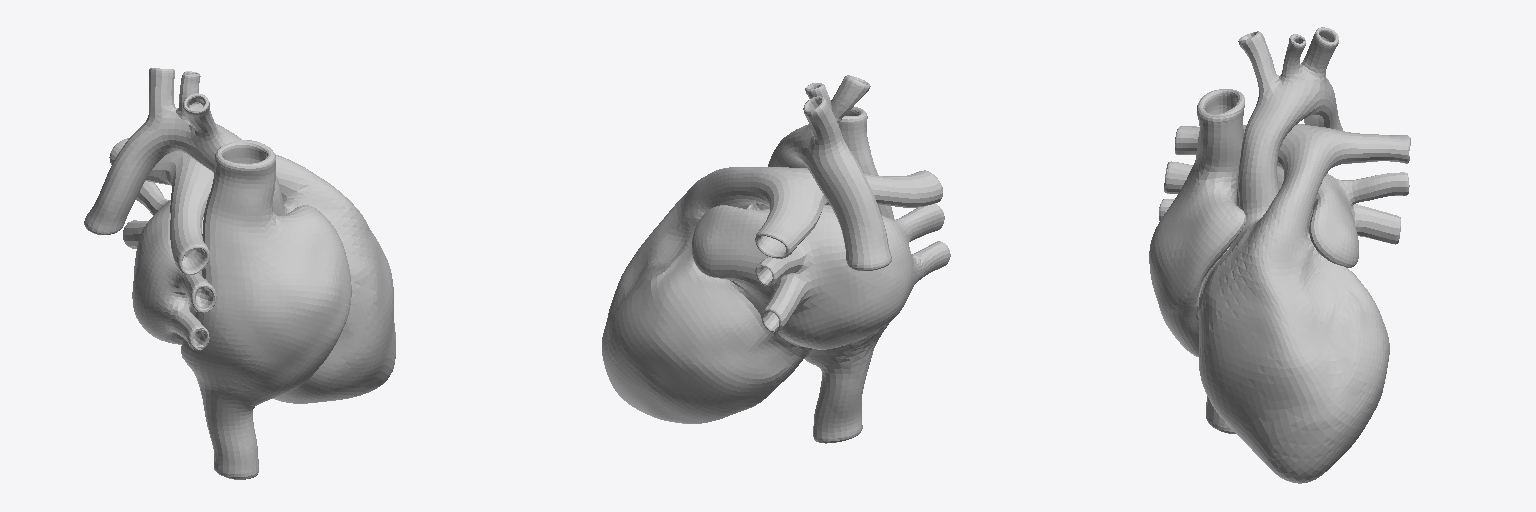
The picture shows the model from 3 angles: view 1: azimuth 30°, elevation 25°; view 2: azimuth 150°, elevation 25°; view 3: azimuth 270°, elevation 25°; orthographic projection.
Parts seen in each view (by area): view 1: HEART_PRO; view 2: HEART_PRO; view 3: HEART_PRO.
Part boxes in pixels (left/top/right/bottom): HEART_PRO: left=84, top=68, right=395, bottom=479; HEART_PRO: left=602, top=75, right=950, bottom=443; HEART_PRO: left=1149, top=27, right=1410, bottom=483.
Bounding box in the file's own units: 649 × 820 × 508.